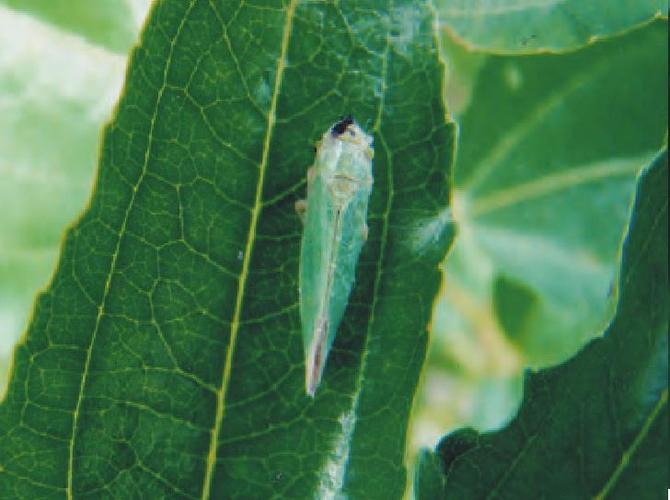Cicadellidae: (298, 115, 374, 397)
